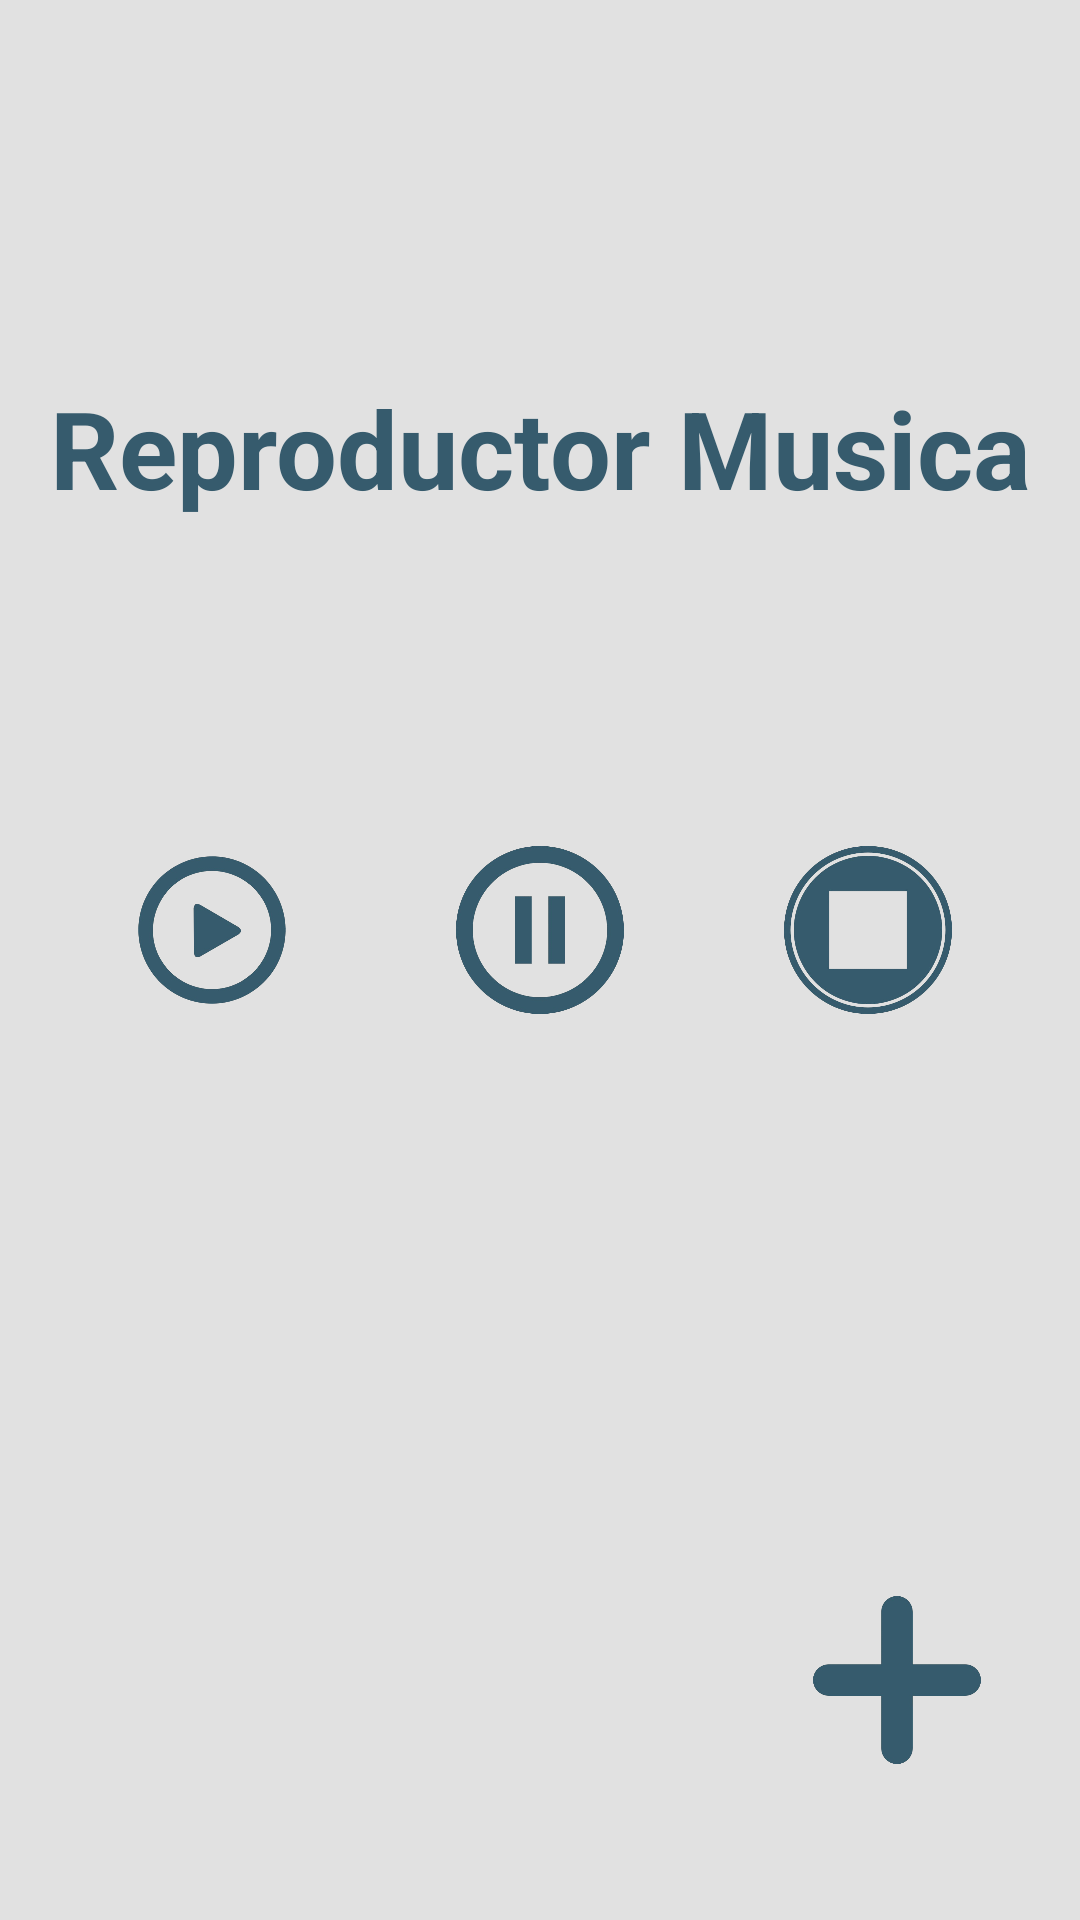

Icons on this 1080px x 1920px Android screen, each with its box as (x1, y1, x2, y2):
Add Song: (813, 1596, 981, 1764)
Pause: (456, 846, 624, 1014)
Play: (138, 856, 286, 1004)
Stop: (784, 846, 952, 1014)
